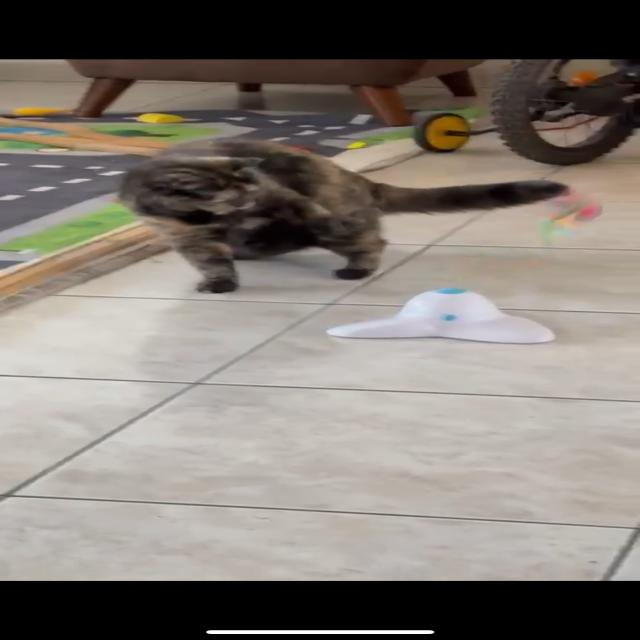authorized: (114, 136, 569, 294)
